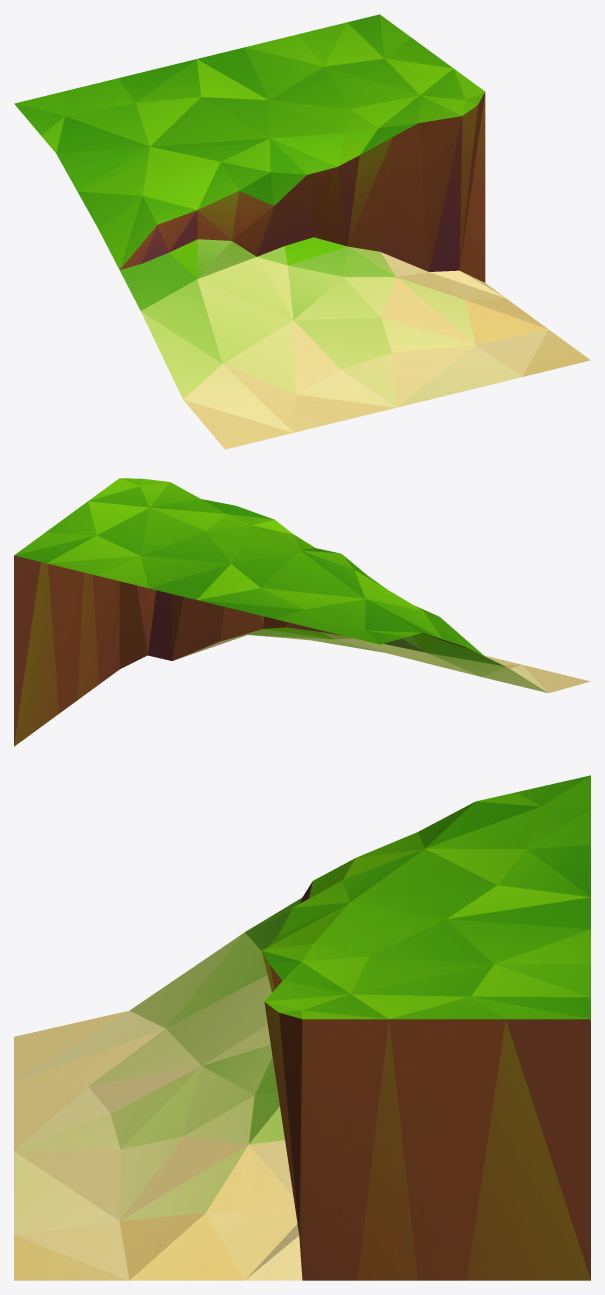
Rendered from GL-Terrain-part-13-LOD2.fbx.
3 renders of one model, top to bottom at view 1: azimuth 30°, elevation 25°; view 2: azimuth 150°, elevation 25°; view 3: azimuth 270°, elevation 25°, orthographic. The views are drawn at different scales.
Visible parts, largest first — view 1: GL_Terrain_part_13; view 2: GL_Terrain_part_13; view 3: GL_Terrain_part_13.
Part boxes in pixels (bbox=[...]): GL_Terrain_part_13: bbox=[14, 14, 590, 449]; GL_Terrain_part_13: bbox=[14, 478, 590, 746]; GL_Terrain_part_13: bbox=[14, 775, 590, 1280].
Bounding box in the file's own units: 6 × 3 × 6.
